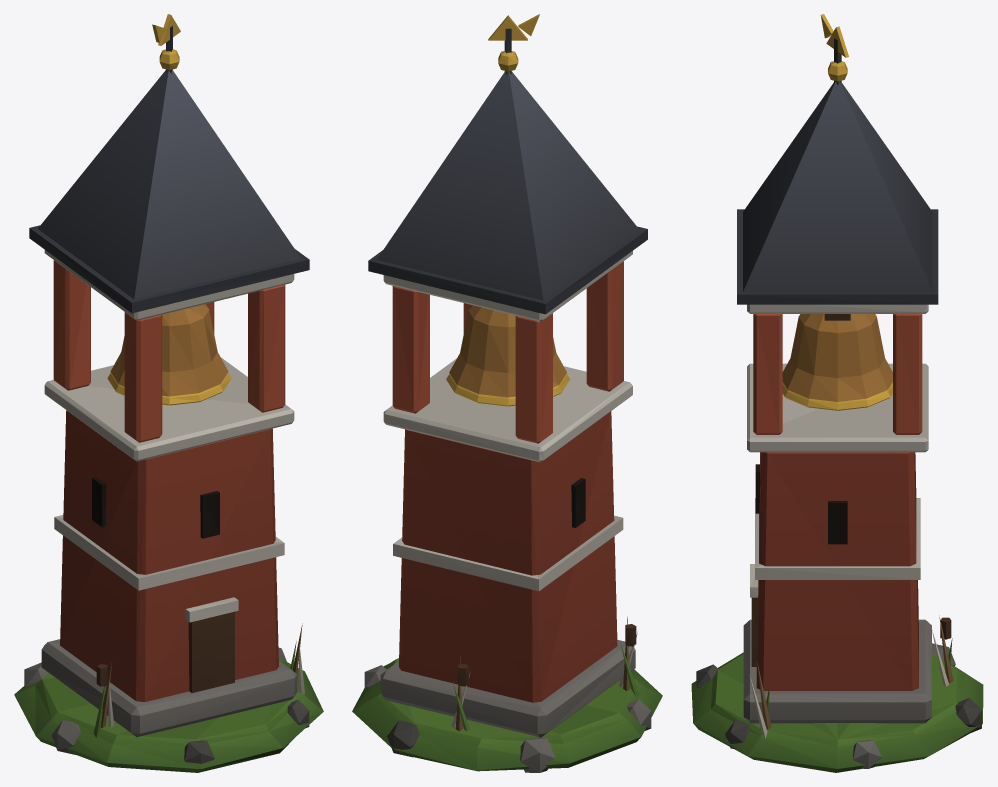
Rendered from toll_tower.glb.
The picture shows the model from 3 angles, left to right: view 1: azimuth 30°, elevation 25°; view 2: azimuth 150°, elevation 25°; view 3: azimuth 270°, elevation 25°; orthographic projection.
Parts seen in each view (by area): view 1: toll_tower; view 2: toll_tower; view 3: toll_tower.
Part boxes in pixels (left/top/right/bottom): toll_tower: left=14, top=14, right=323, bottom=772; toll_tower: left=352, top=14, right=662, bottom=772; toll_tower: left=691, top=14, right=983, bottom=772.
Size of the model in its own units: 0.9387 by 2.34 by 0.899.
